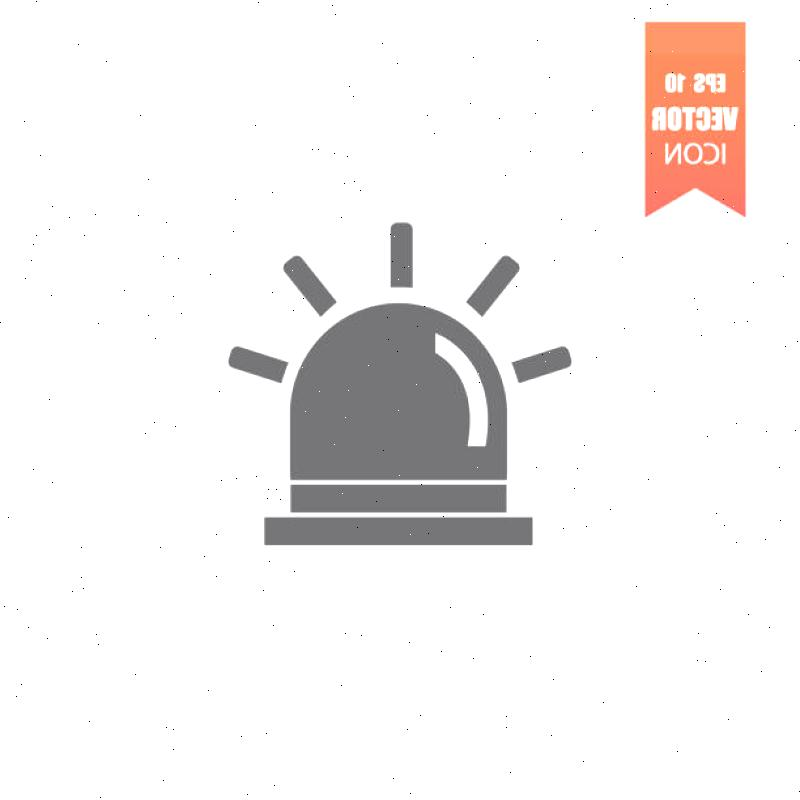AmbulanceSiren: (213, 249, 566, 558)
